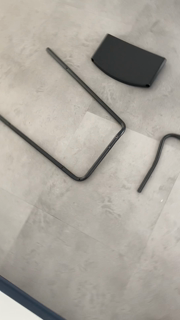Back: (89, 32, 170, 94)
U pipe: (1, 45, 129, 186)
